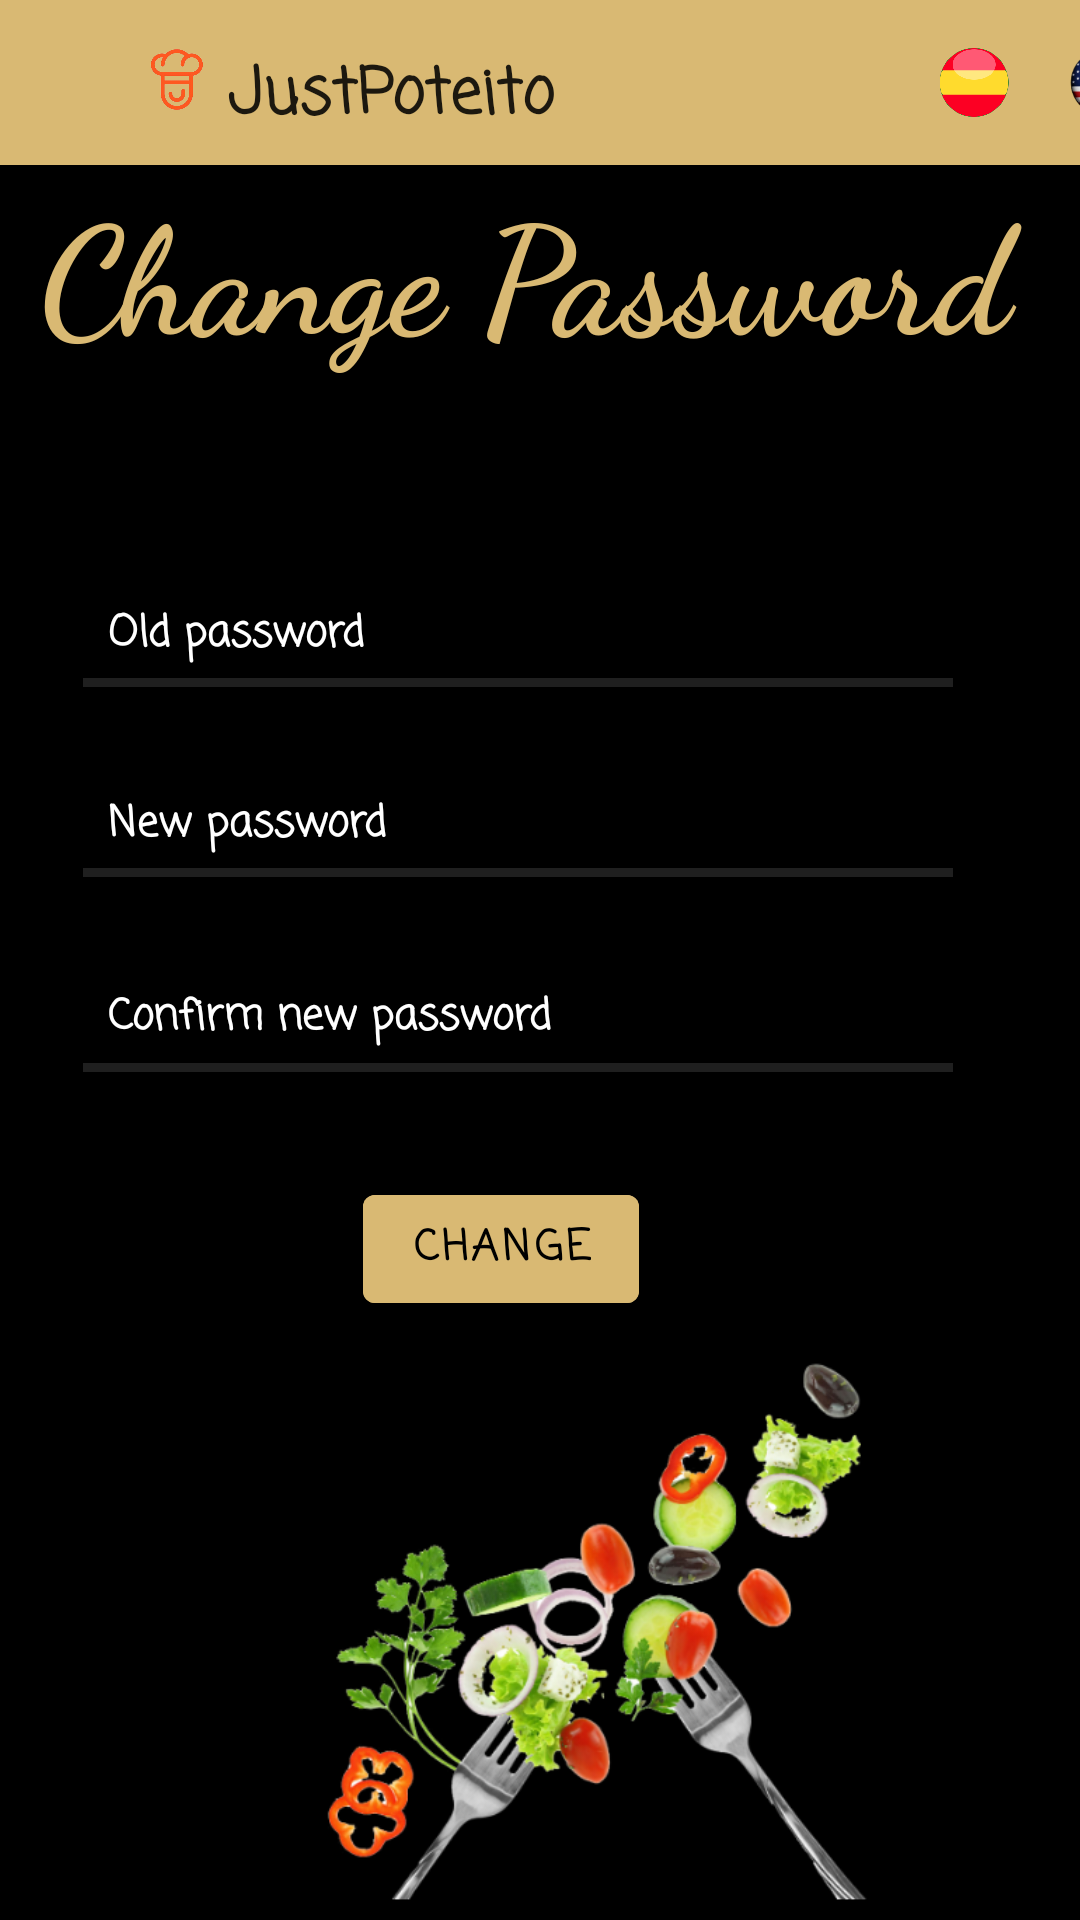

Where to tap for icons on this 1080w x 1920h app screen, as (x,y):
spanish: (974,82)
